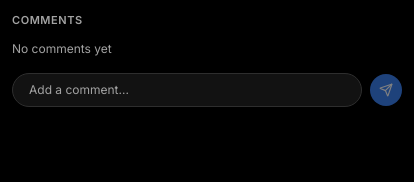
it: ReviewComments › shows a new comment before the server has saved it
Type "Lovely place" into the field with placeholder "Add a comment..." at (187, 90), box left=12, top=72, right=362, bottom=106
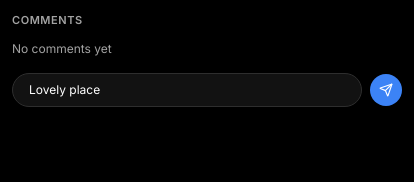
Press Enter in the field with placeholder "Add a comment...", box left=12, top=72, right=362, bottom=106
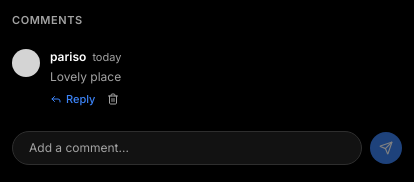
Expected: the field with placeholder "Add a comment..." is empty, left=12, top=131, right=362, bottom=165
Expected: the text "Lovely place" is shown, left=50, top=69, right=121, bottom=84
